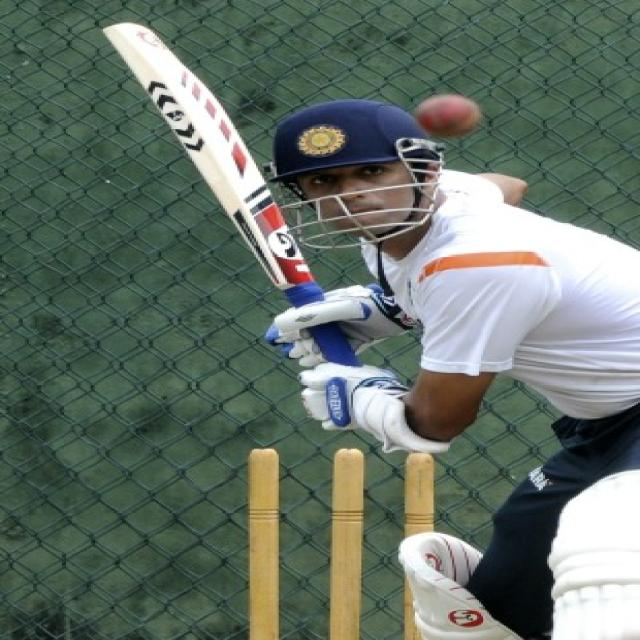ball: (410, 92, 481, 138)
stump: (251, 444, 434, 640)
